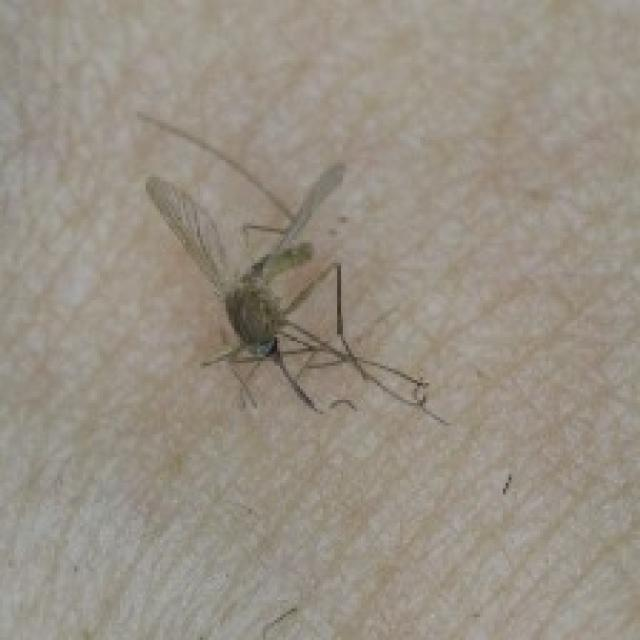culex: (134, 108, 449, 426)
